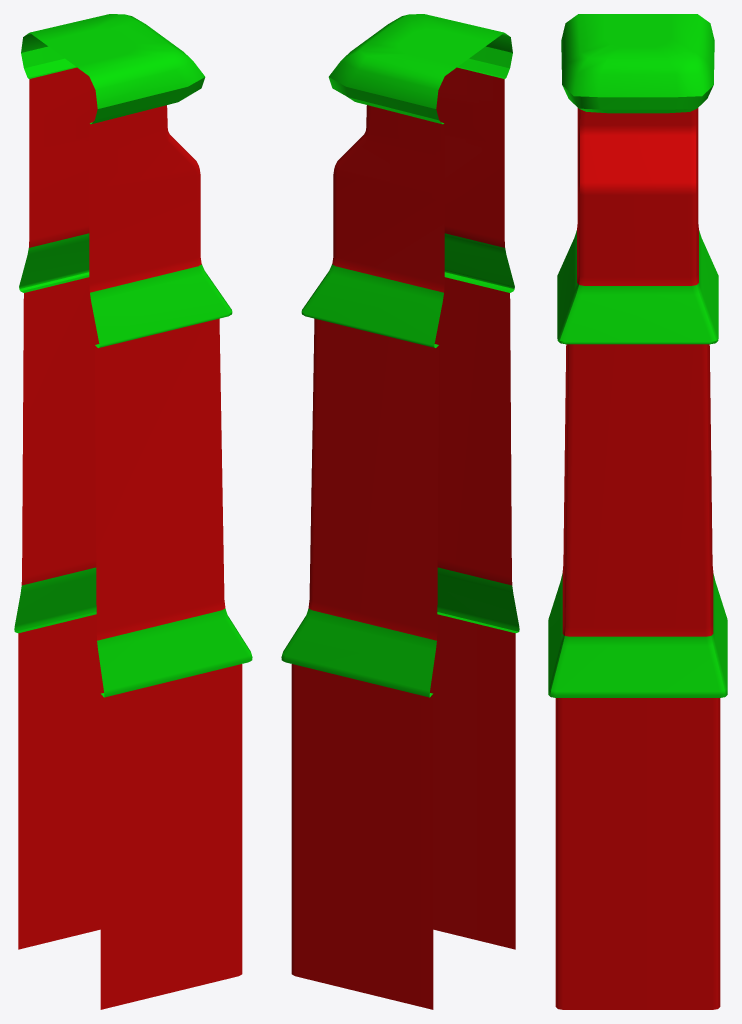
The model's file is Mdl_WallA_TrimE.fbx.
3 renders of one model, left to right at view 1: azimuth 30°, elevation 25°; view 2: azimuth 150°, elevation 25°; view 3: azimuth 270°, elevation 25°, orthographic.
Parts seen in each view (by area): view 1: Mdl_WallA_TrimE; view 2: Mdl_WallA_TrimE; view 3: Mdl_WallA_TrimE.
Part boxes in pixels (box(x1,y1,x2,y2)): Mdl_WallA_TrimE: box(14, 14, 252, 1009); Mdl_WallA_TrimE: box(281, 14, 519, 1009); Mdl_WallA_TrimE: box(548, 14, 727, 1009).
Bounding box in the file's own units: 133 × 136 × 775.
